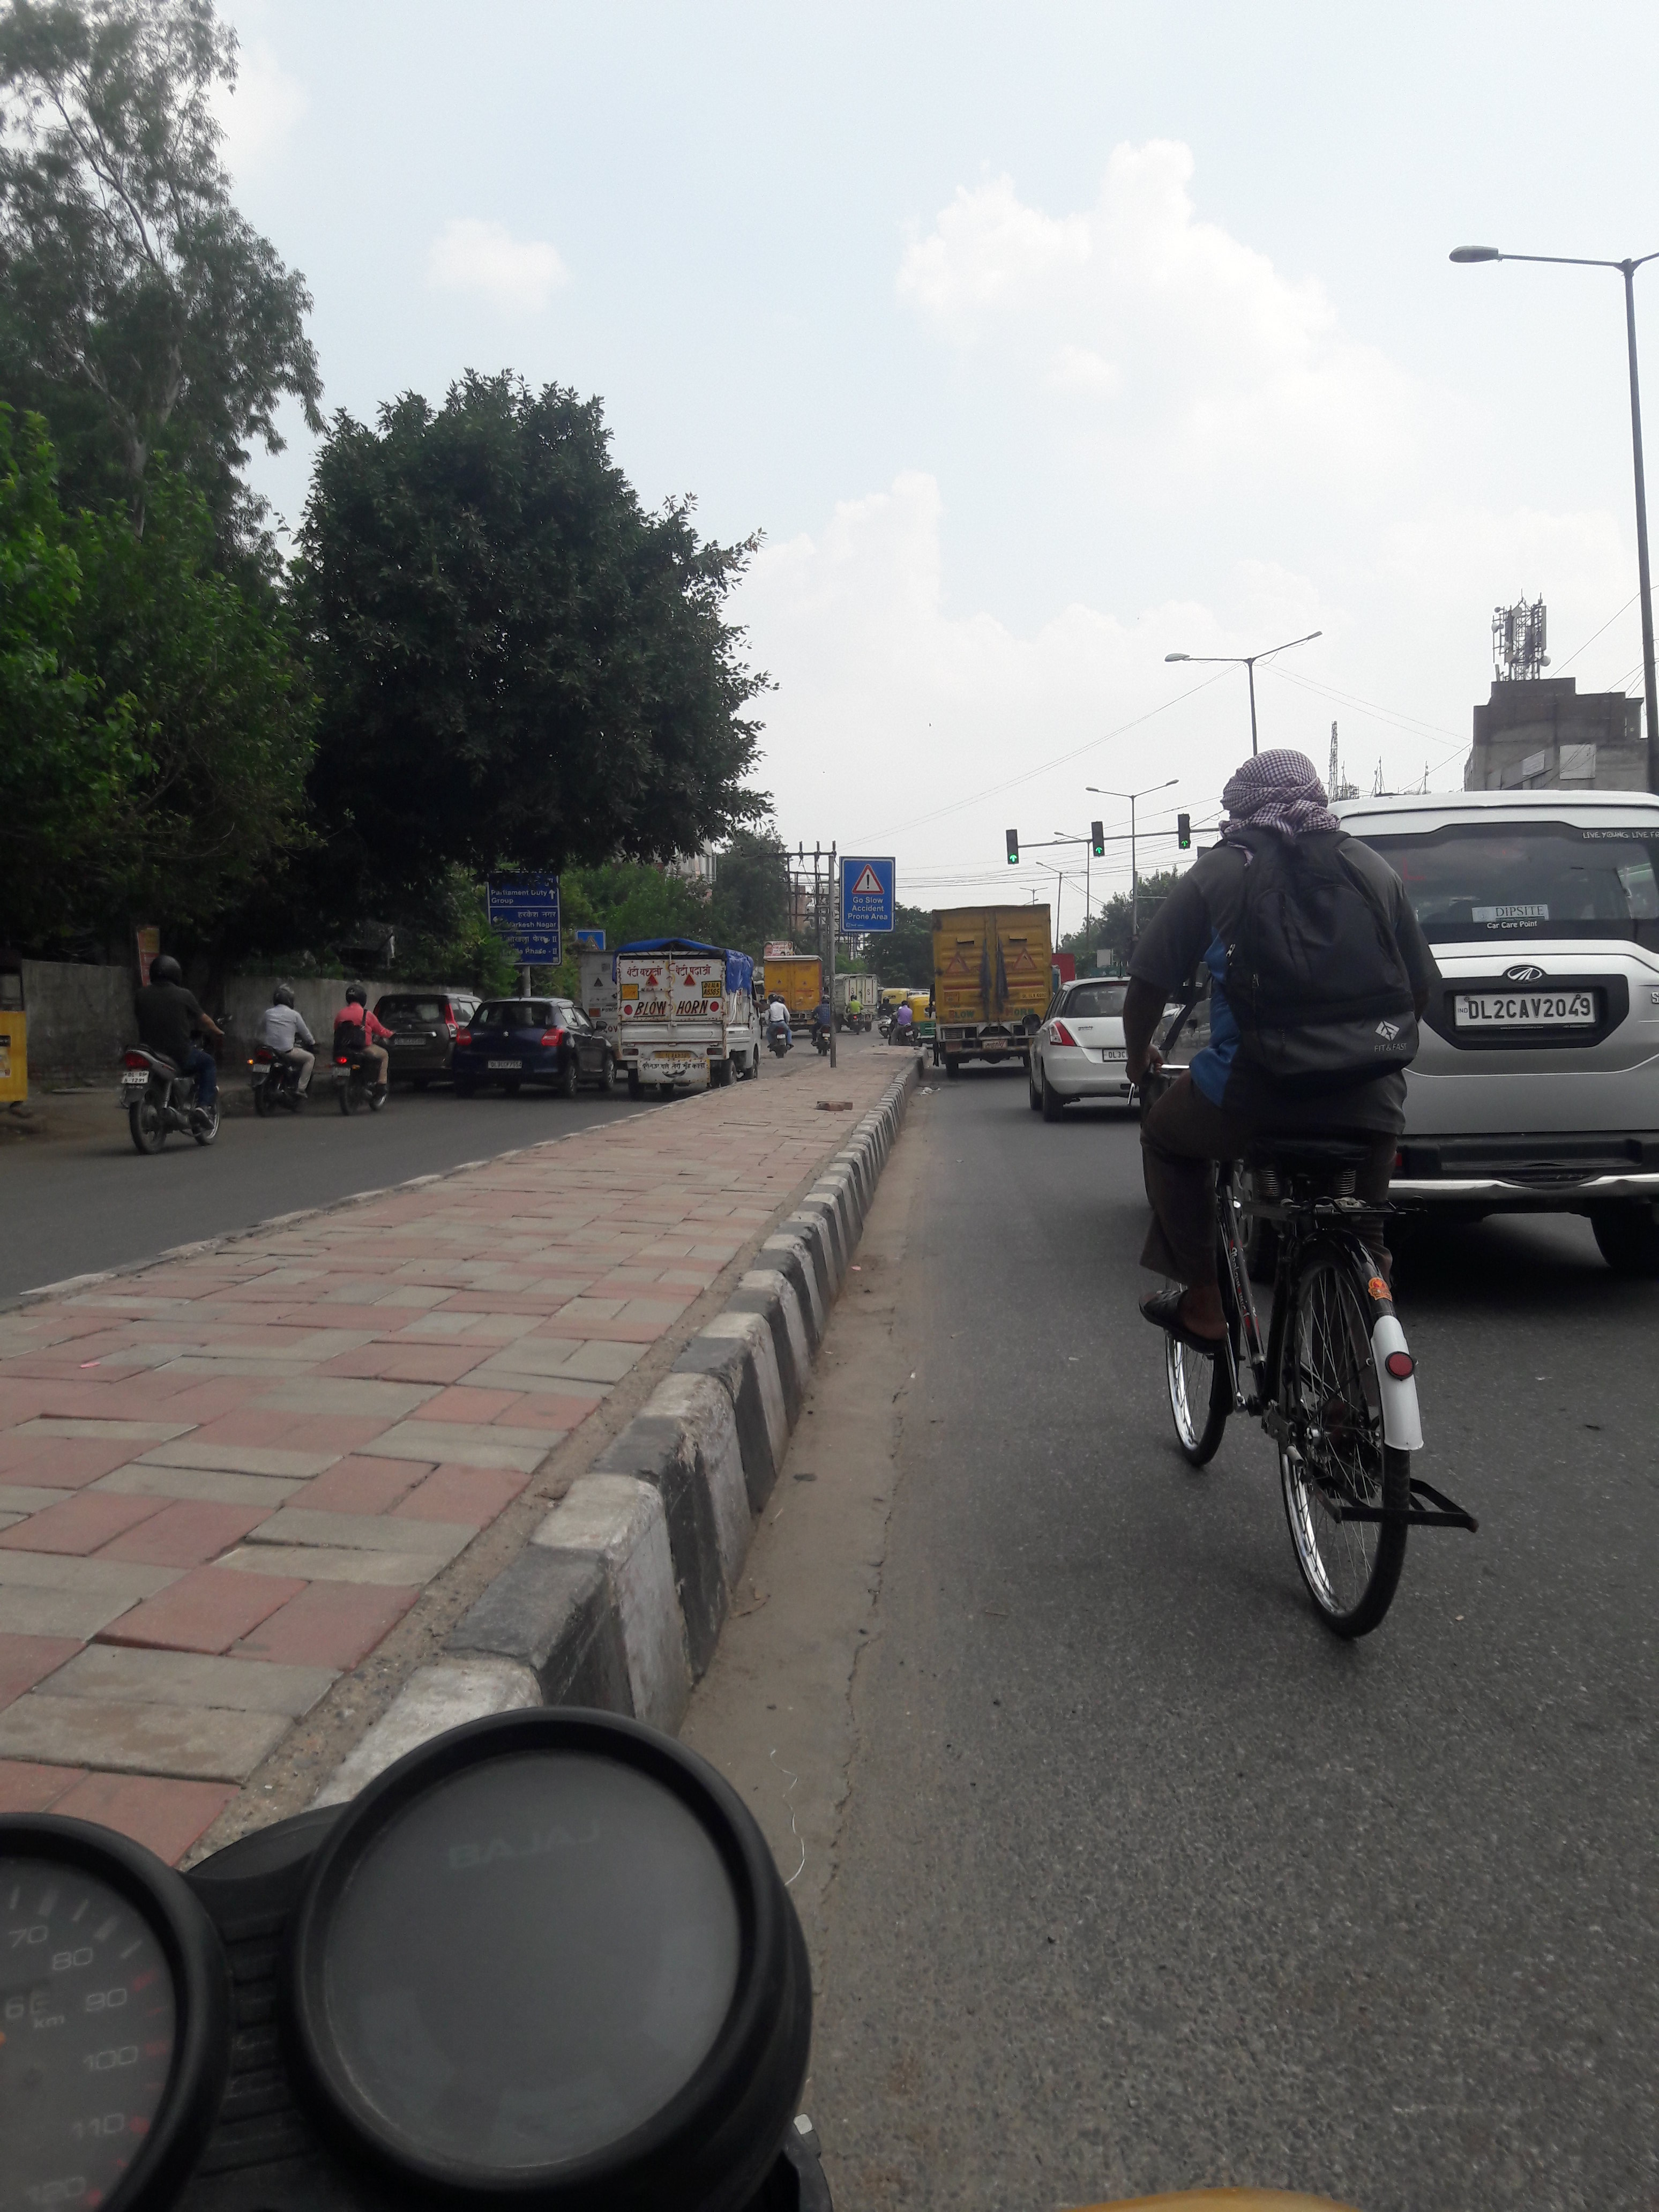traffic_sign: (840, 852, 894, 934), (577, 928, 605, 949), (1006, 829, 1019, 864), (1093, 820, 1105, 857), (1178, 813, 1188, 848)
